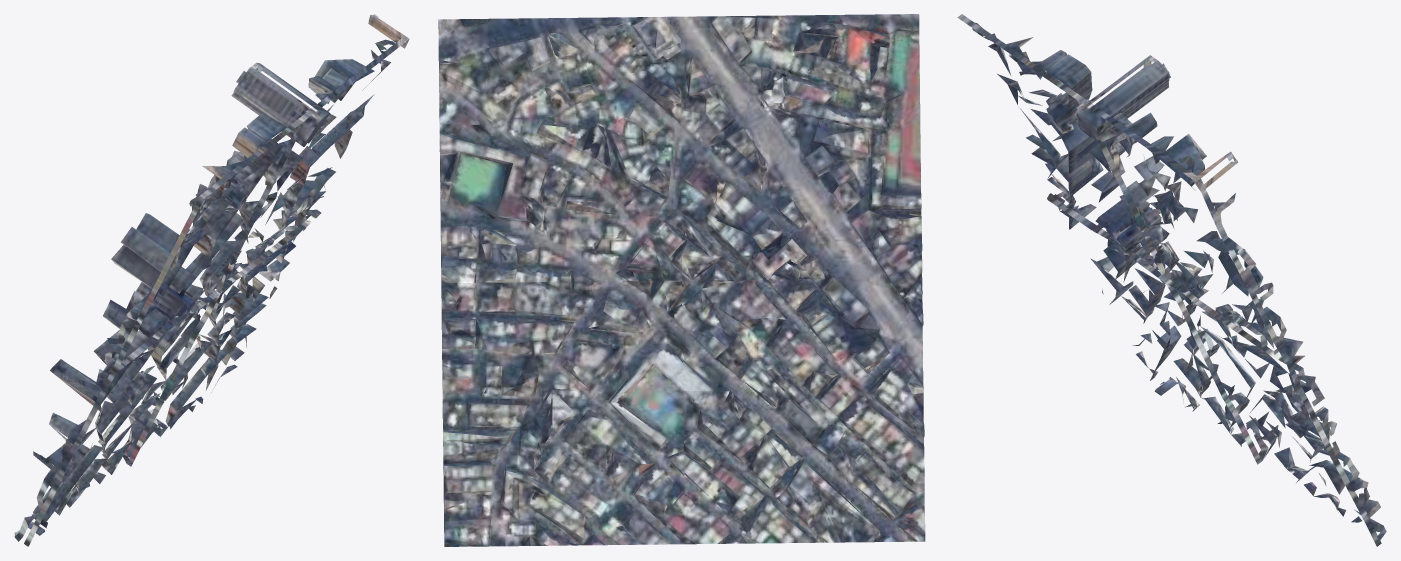
3 renders of one model, left to right at view 1: azimuth 30°, elevation 25°; view 2: azimuth 150°, elevation 25°; view 3: azimuth 270°, elevation 25°, orthographic. The views are drawn at different scales.
Size of the model in its own units: 618 by 597 by 521.
Materials: 1 (1 with a texture image).
